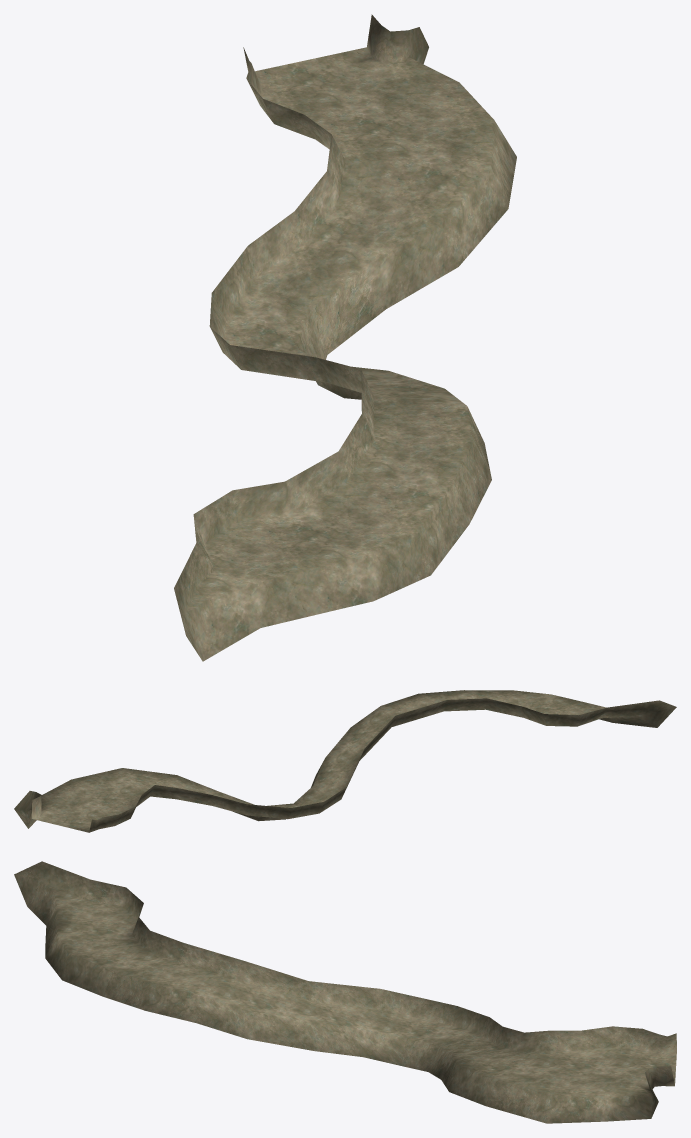
The model's file is EKH_GROTTO_PS_GR_OBJECT12.fbx.
3 renders of one model, top to bottom at view 1: azimuth 30°, elevation 25°; view 2: azimuth 150°, elevation 25°; view 3: azimuth 270°, elevation 25°, orthographic. The views are drawn at different scales.
Visible parts, largest first — view 1: EKH_GROTTO_PS_GR_OBJECT12; view 2: EKH_GROTTO_PS_GR_OBJECT12; view 3: EKH_GROTTO_PS_GR_OBJECT12.
Boxes of the visible parts, <box> form: EKH_GROTTO_PS_GR_OBJECT12: <box>174,14,516,661</box>; EKH_GROTTO_PS_GR_OBJECT12: <box>14,690,676,832</box>; EKH_GROTTO_PS_GR_OBJECT12: <box>14,861,676,1123</box>.
Size of the model in its own units: 135396 by 22940 by 166404.
1 material, 1 textured.
